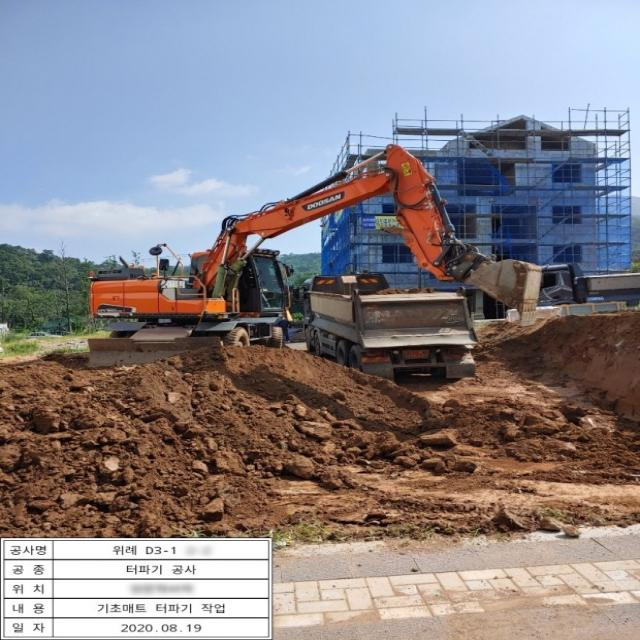dump truck: (294, 272, 475, 382), (538, 263, 640, 311)
excavator: (88, 144, 541, 368)
